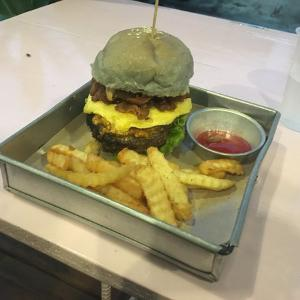cheeseburger: (84, 19, 193, 150)
fries: (50, 138, 241, 227)
